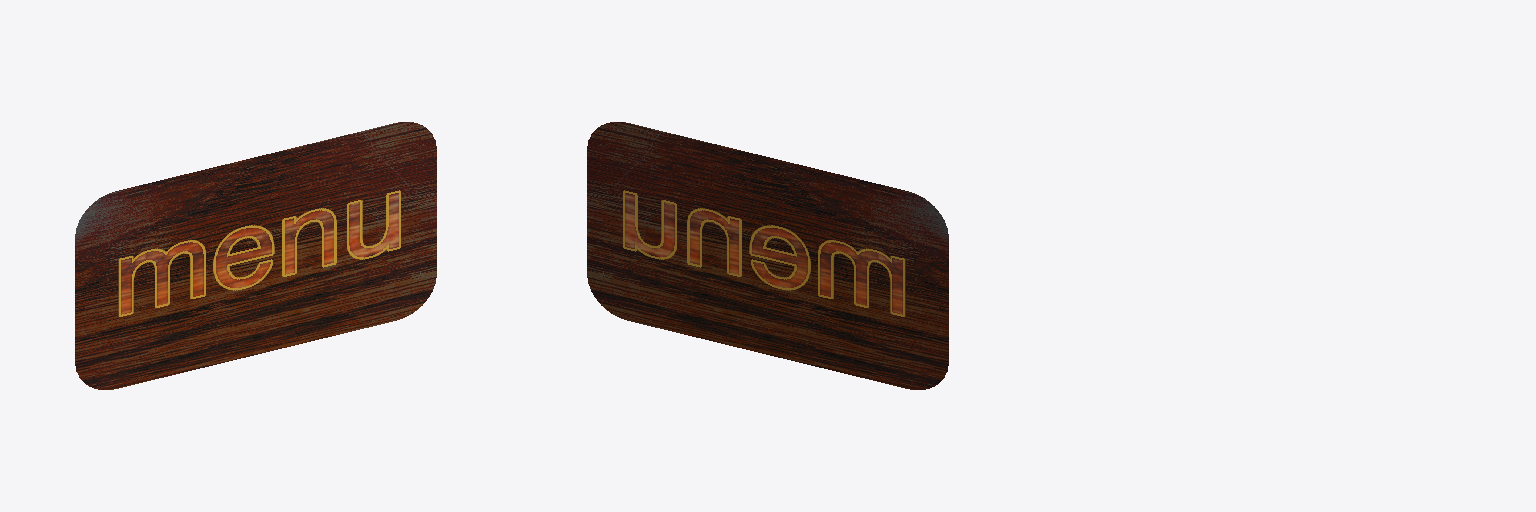
3 renders of one model, left to right at view 1: azimuth 30°, elevation 25°; view 2: azimuth 150°, elevation 25°; view 3: azimuth 270°, elevation 25°, orthographic.
Visible parts, largest first — view 1: Plane; view 2: Plane; view 3: none.
Part boxes in pixels (left/top/right/bottom): Plane: left=75, top=122, right=436, bottom=389; Plane: left=587, top=122, right=948, bottom=389.
Bounding box in the file's own units: 1.5 × 0.7828 × 0.
Materials: 1 (1 with a texture image).